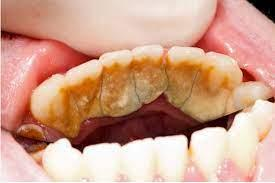Plaque: (38, 82, 85, 139), (100, 62, 142, 115), (165, 54, 196, 108), (135, 55, 169, 104), (69, 73, 102, 120), (200, 65, 233, 97)
